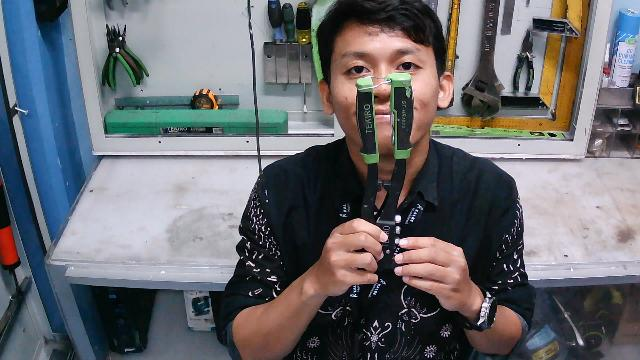tang_rivet: (353, 72, 413, 271)
